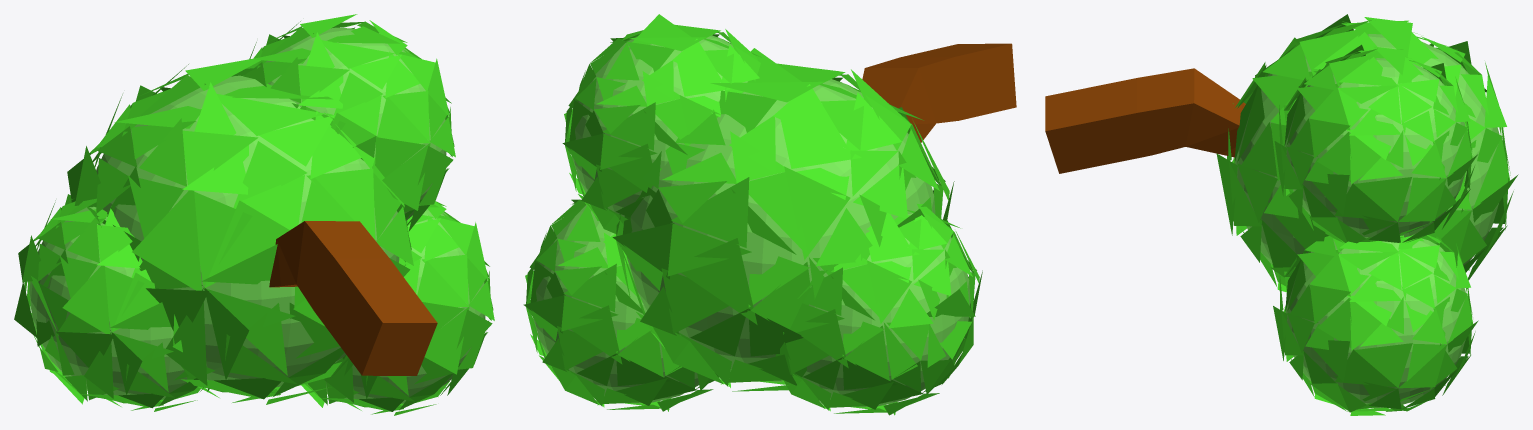
The picture shows the model from 3 angles, left to right: view 1: azimuth 30°, elevation 25°; view 2: azimuth 150°, elevation 25°; view 3: azimuth 270°, elevation 25°; orthographic projection. The views are drawn at different scales.
Visible parts, largest first — view 1: Cube.004; view 2: Cube.004; view 3: Cube.004.
Boxes of the visible parts, x1,y1,x2,y2 form: Cube.004: (14, 14, 494, 415); Cube.004: (523, 14, 1016, 415); Cube.004: (1045, 14, 1518, 415).
Size of the model in its own units: 15.97 by 17.4 by 13.61.
